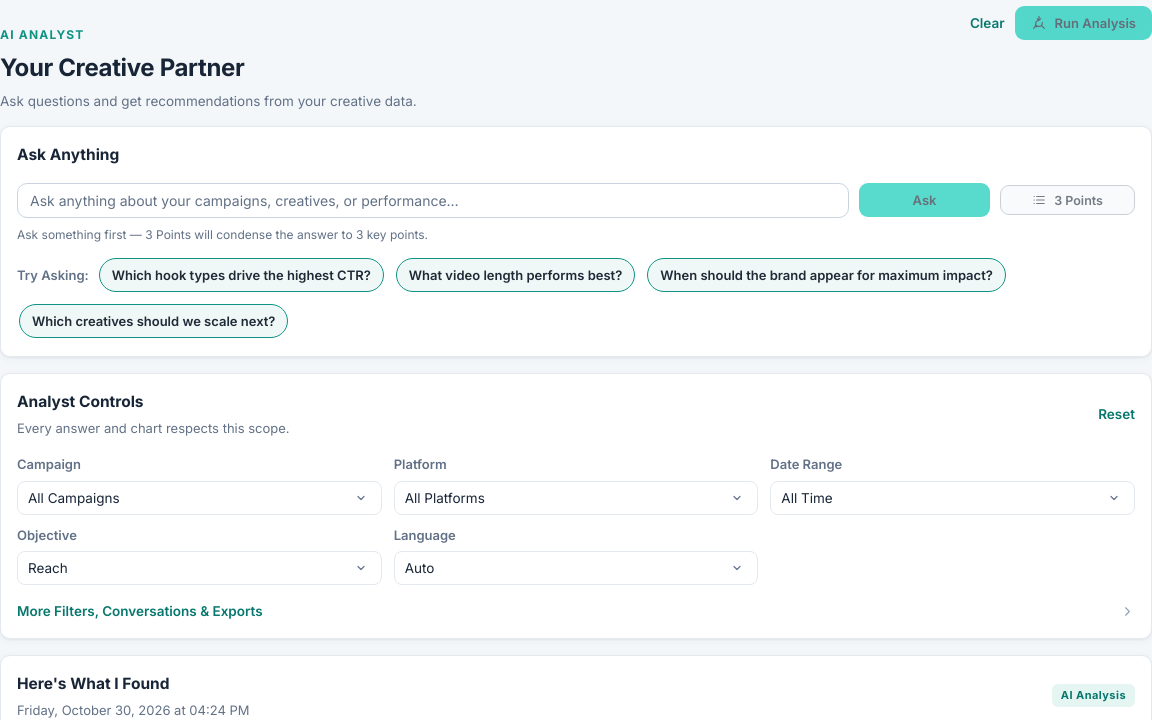
AnalystPage › condenses the last answer from a populated conversation with empty input
// Populate the conversation first.
Replace the text in the field named "Ask Foap Analyst" with "hook rate for each creative": (433,200) 17,183 -> 849,218
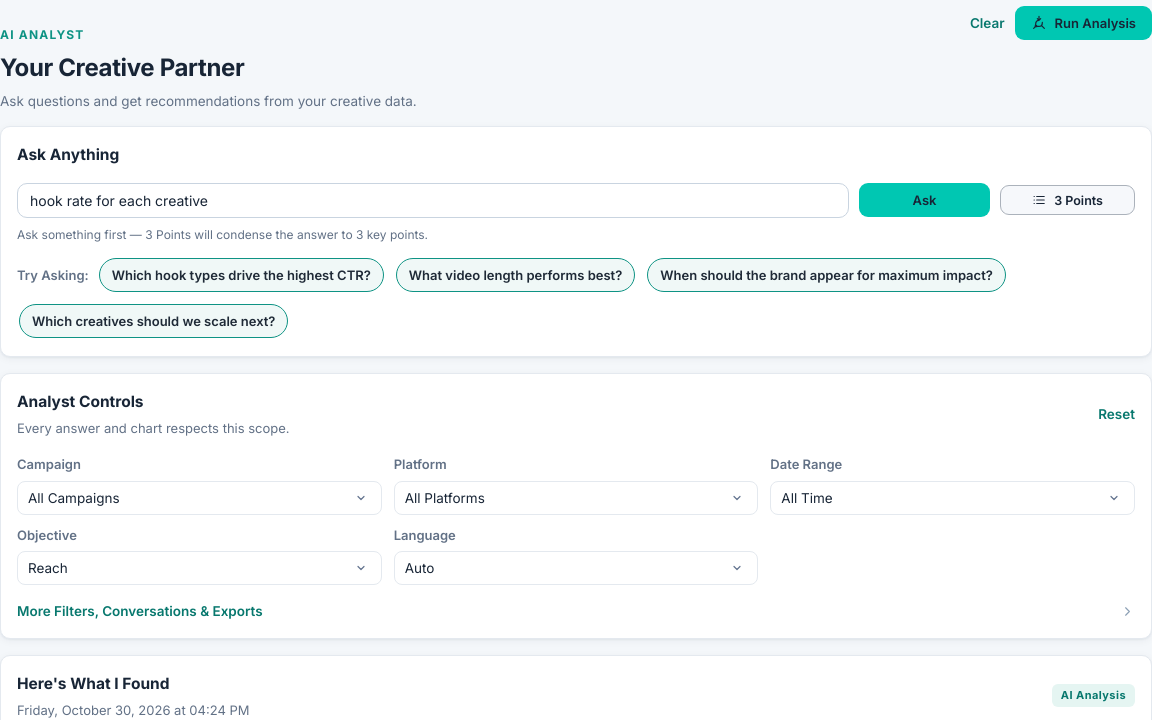
Click the button "Ask": (925,200) 859,183 -> 990,217
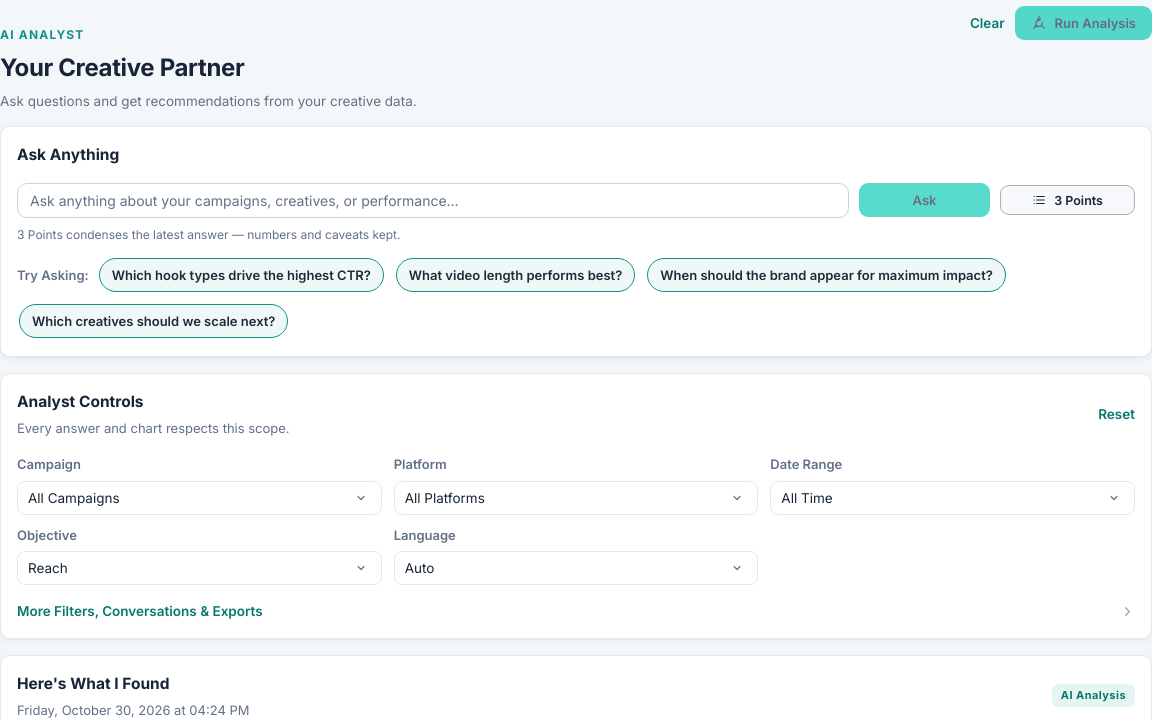
Now the button "3 Points" is enabled
Now the text "3 Points condenses the latest answer — numbers and caveats kept." is shown, box 17,227 -> 400,242
Click the button "3 Points": (1068,200) 1000,185 -> 1135,215
(page scrolled)
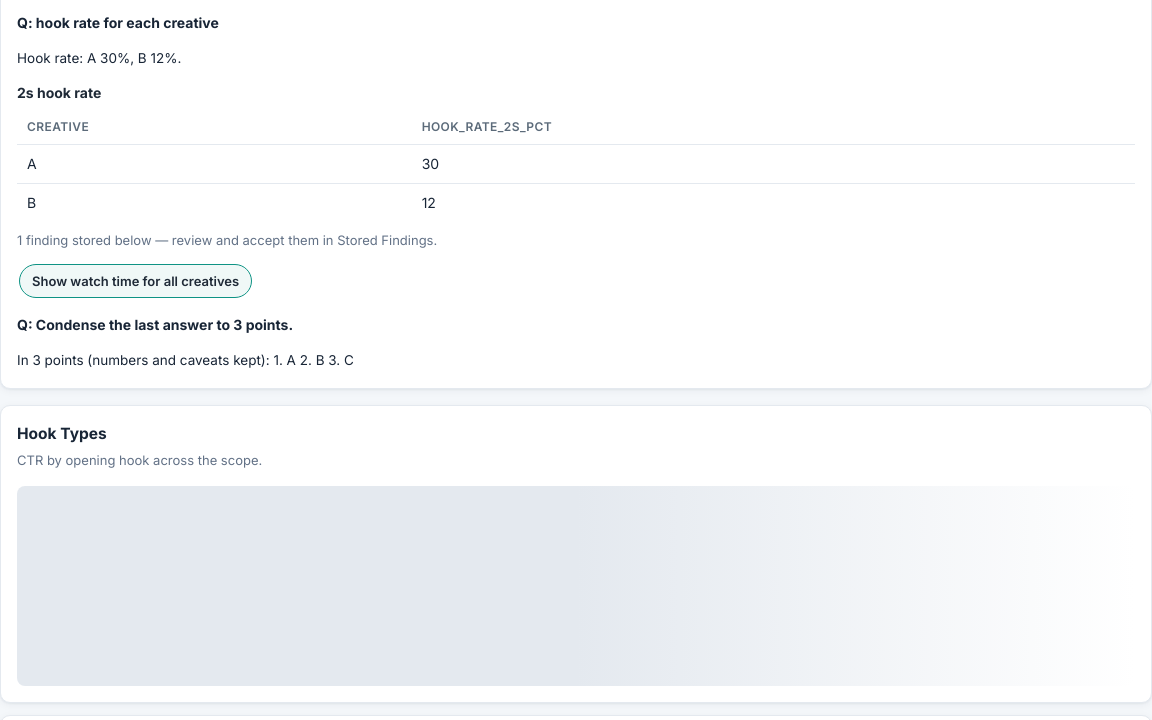
Now the text "In 3 points (numbers and caveats kept): 1. A 2. B 3. C" is shown, box 17,352 -> 354,368
